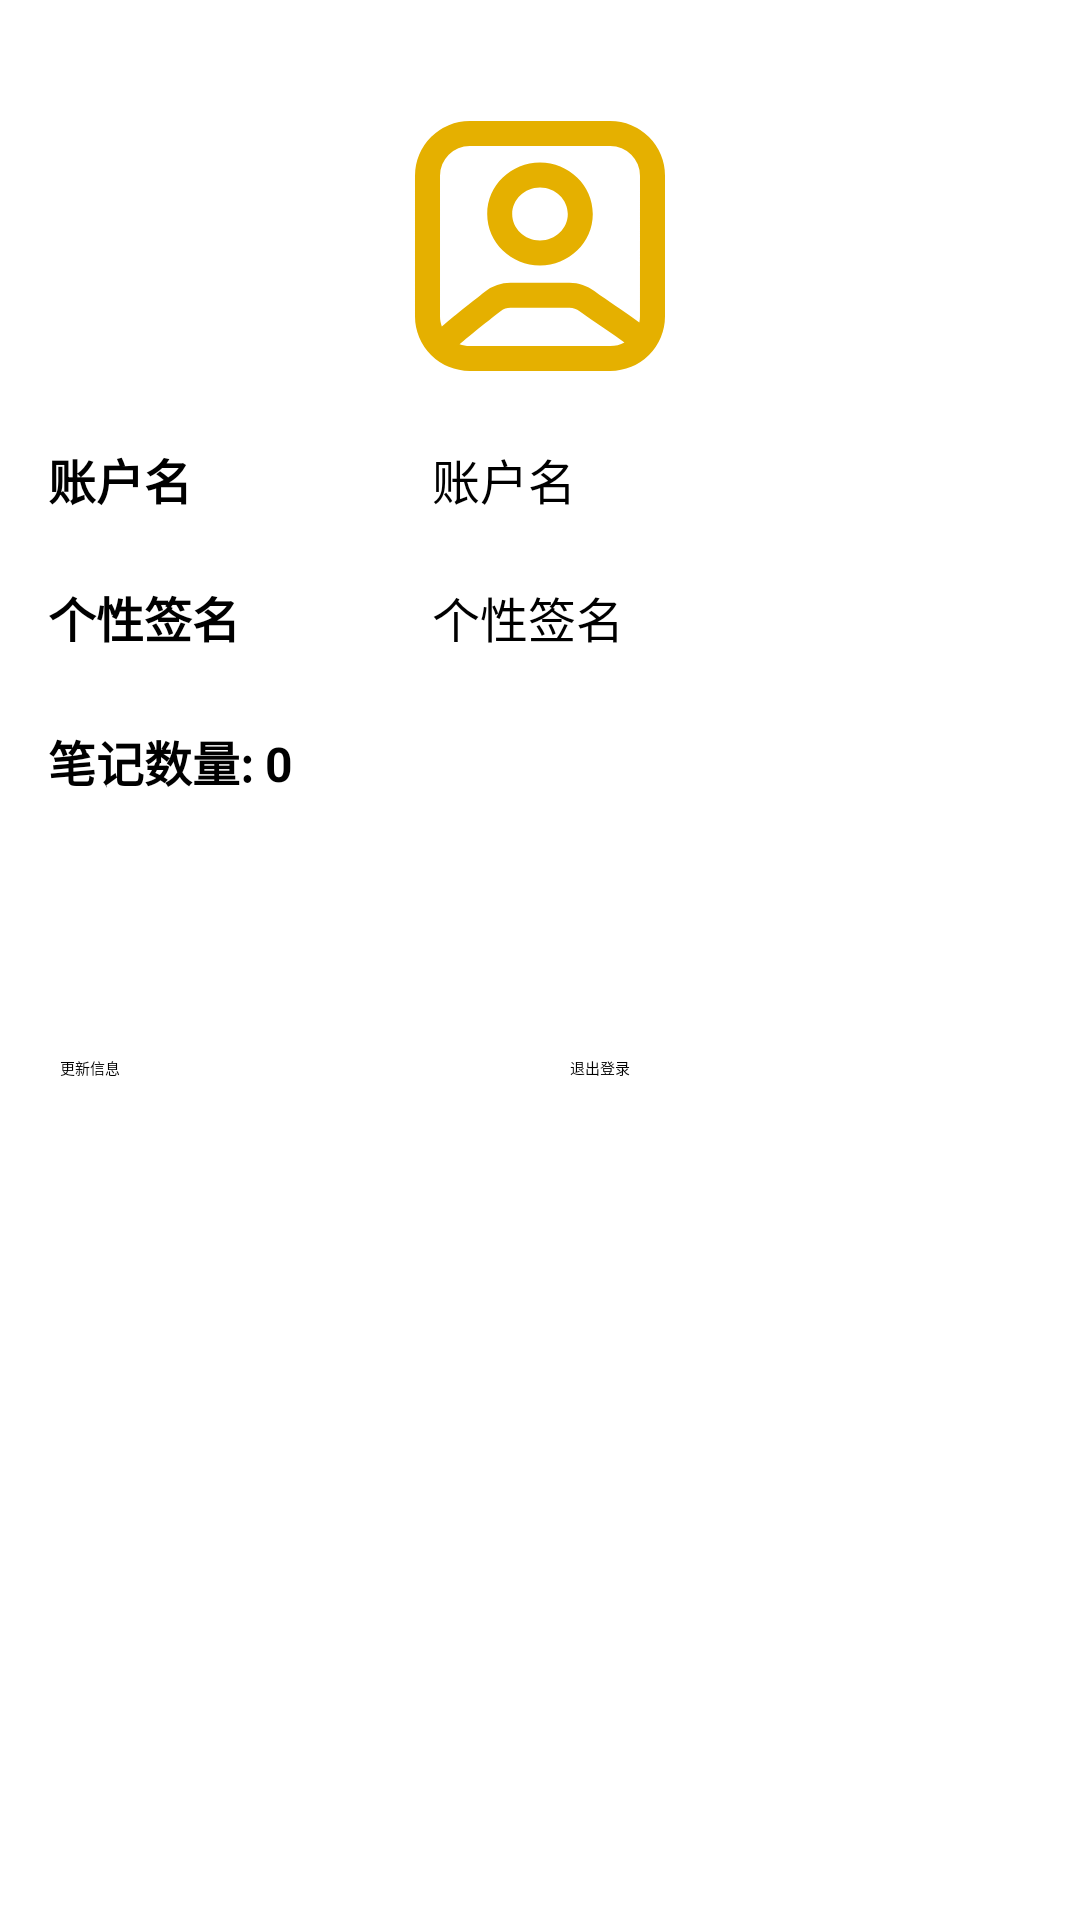

Named icons in this screenshot (1080px x 1920px) and their centers, point (x, y):
profileimage: point (540, 246)
